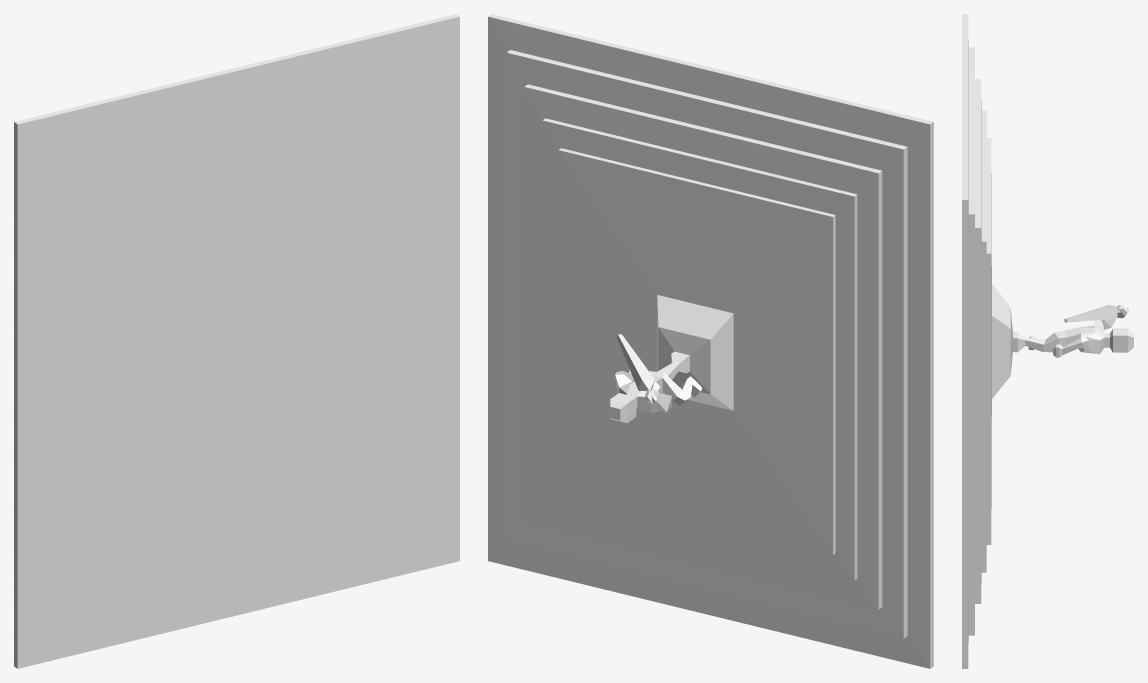
The model's file is venice_statue_0.fbx.
The picture shows the model from 3 angles, left to right: view 1: azimuth 30°, elevation 25°; view 2: azimuth 150°, elevation 25°; view 3: azimuth 270°, elevation 25°; orthographic projection. The views are drawn at different scales.
Parts seen in each view (by area): view 1: Cube.259; view 2: Cube.259; view 3: Cube.259.
Boxes of the visible parts, x1=… form: Cube.259: x1=14, y1=14, x2=459, y2=668; Cube.259: x1=488, y1=14, x2=933, y2=668; Cube.259: x1=962, y1=14, x2=1133, y2=668.
Size of the model in its own units: 3651 by 4296 by 1427.
